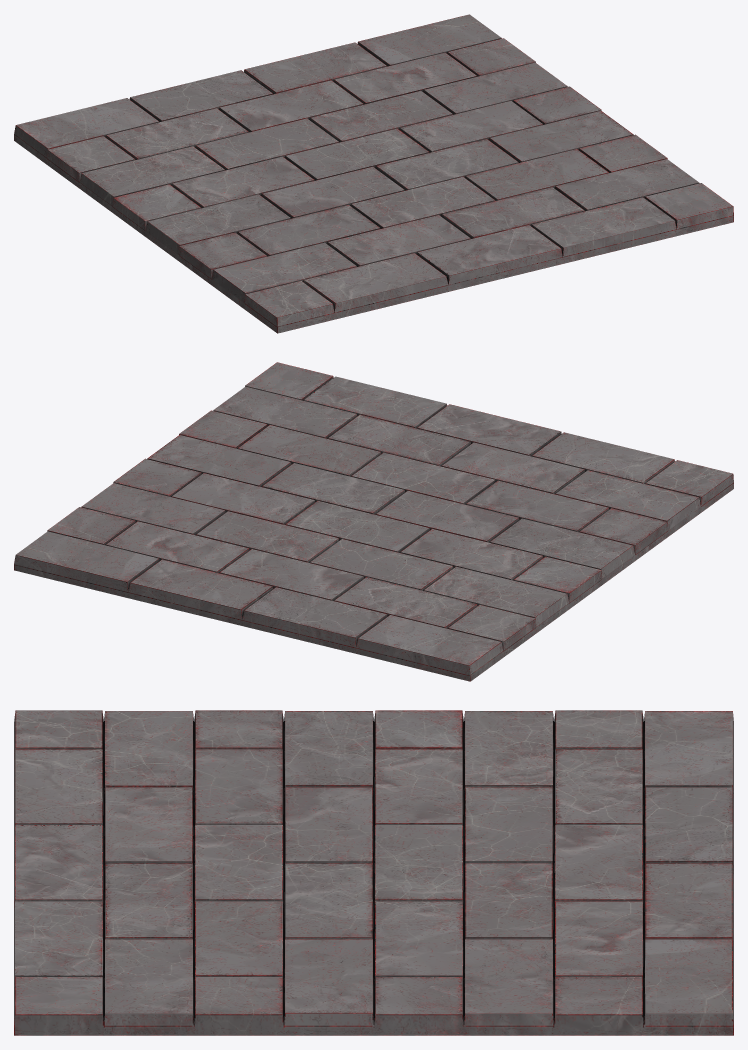
Rendered from Sidewalk.fbx.
3 renders of one model, top to bottom at view 1: azimuth 30°, elevation 25°; view 2: azimuth 150°, elevation 25°; view 3: azimuth 270°, elevation 25°, orthographic. The views are drawn at different scales.
Visible parts, largest first — view 1: plaskie; view 2: plaskie; view 3: plaskie.
Part boxes in pixels (bbox=[...]): plaskie: bbox=[14, 14, 733, 333]; plaskie: bbox=[14, 362, 733, 681]; plaskie: bbox=[14, 710, 733, 1035].
Size of the model in its own units: 300 by 9.78 by 300.
1 material, 1 textured.
